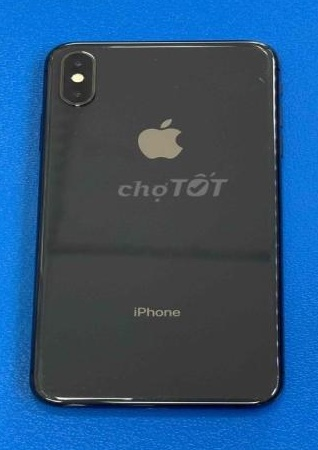scratch: (250, 68, 285, 96), (63, 108, 99, 123), (67, 42, 119, 50), (133, 394, 172, 404), (41, 389, 67, 403), (60, 126, 87, 138), (45, 48, 65, 62), (250, 395, 271, 404), (149, 55, 165, 63)
